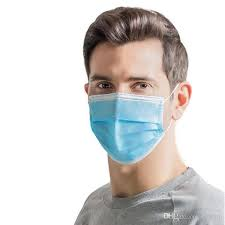mask: (84, 27, 185, 171)
